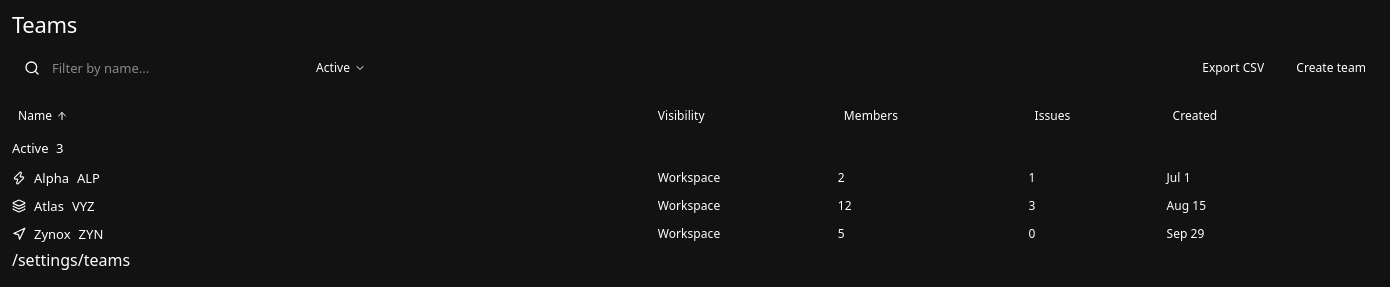
it: TeamsPage › filtra por nome pelo search param ?q=, com a contagem do grupo
Expected: the row "Alpha ALP Workspace 2 1 Jul 1" is shown, [12,164,1378,192]
Type "zyn" into the search field with placeholder "Filter by name..." at (170,68), box [40,52,300,84]
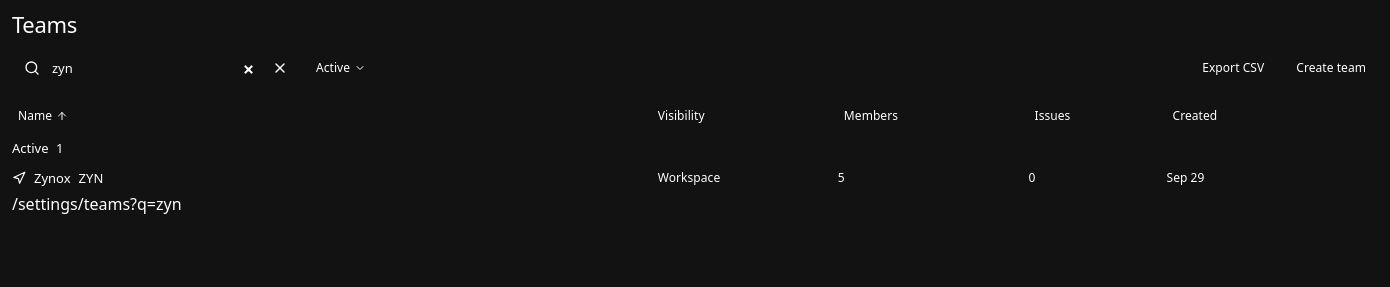
Expected: the row "Zynox ZYN Workspace 5 0 Sep 29" is shown, [12,164,1378,192]
Expected: the text named "Current URL" shows "?q=zyn", [130,193,182,215]
Expected: the row "Active 1" is shown, [12,132,1378,164]
Replace the text in the search field named "Filter teams by name" with "nothing-here" at (154,68), box [40,52,268,84]
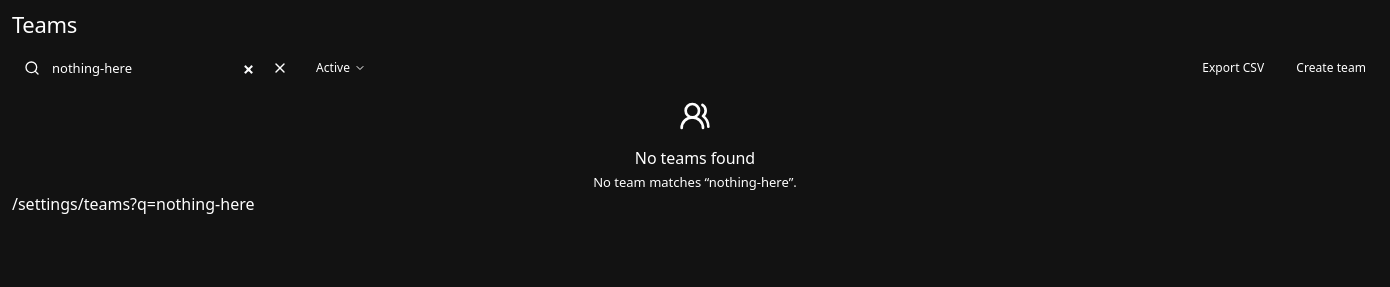
Expected: the text "No teams found" is shown, [635,147,755,169]
